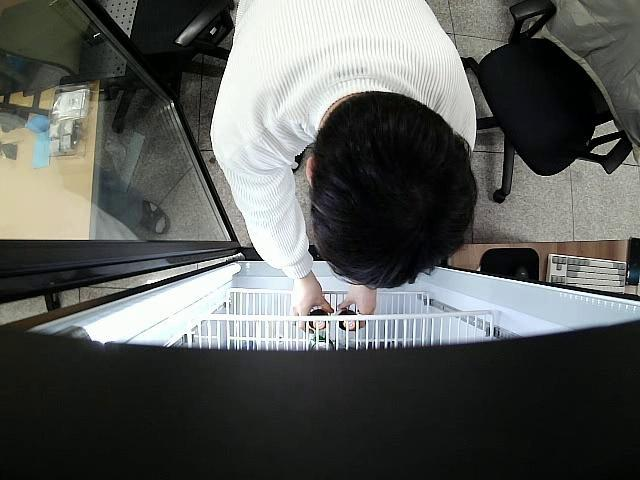17_vita500: (311, 305, 330, 331), (338, 308, 359, 330)
